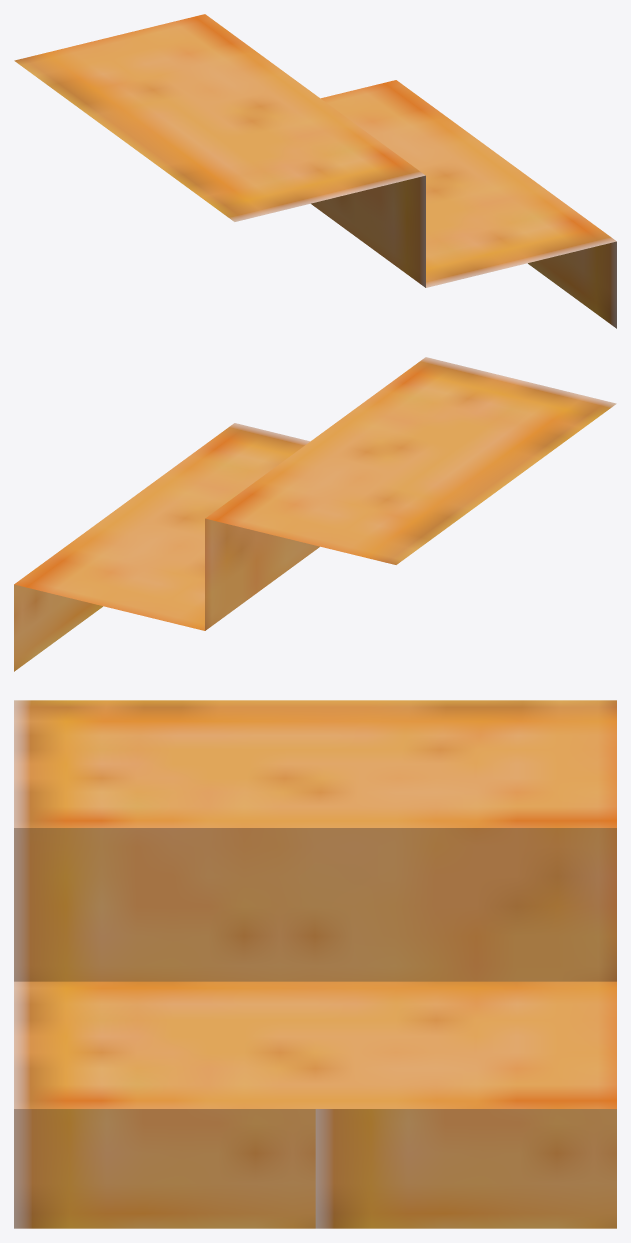
Rendered from geo_stepLow.fbx.
3 renders of one model, top to bottom at view 1: azimuth 30°, elevation 25°; view 2: azimuth 150°, elevation 25°; view 3: azimuth 270°, elevation 25°, orthographic. The views are drawn at different scales.
Visible parts, largest first — view 1: geo_stepLow; view 2: geo_stepLow; view 3: geo_stepLow.
Boxes of the visible parts, left/top/right/bottom form: geo_stepLow: left=14, top=14, right=616, bottom=328; geo_stepLow: left=14, top=357, right=616, bottom=671; geo_stepLow: left=14, top=700, right=616, bottom=1228.
Size of the model in its own units: 2 by 1 by 2.
Materials: 1 (1 with a texture image).
